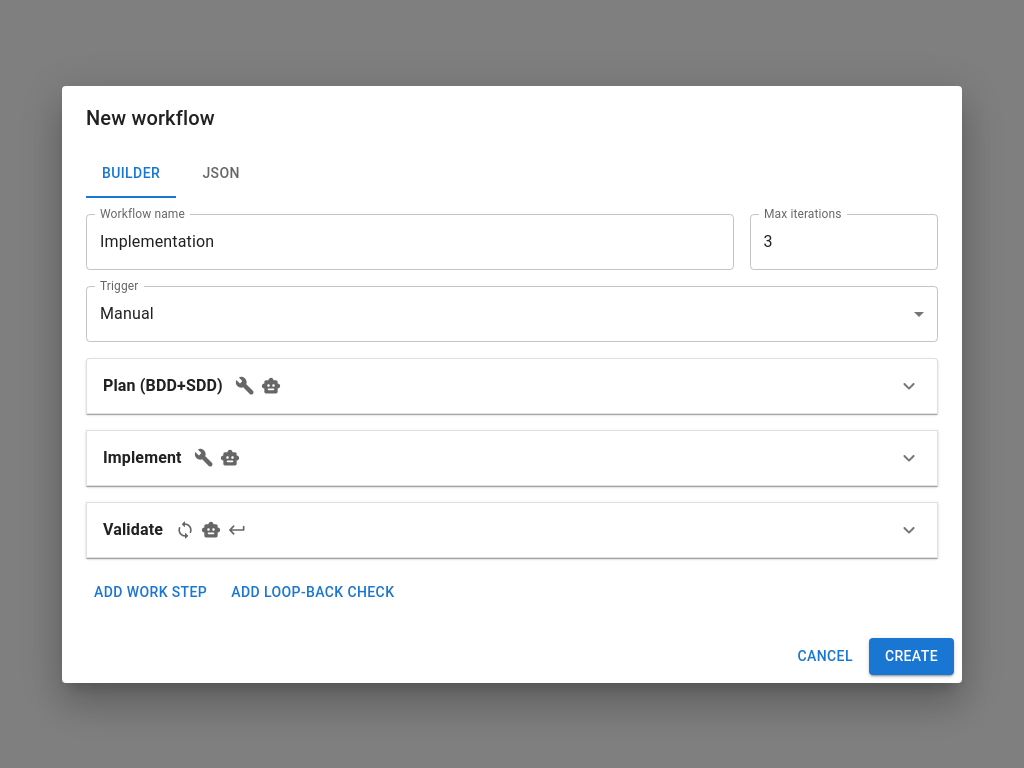
Scenario: WorkflowEditorDialog › disables Save until a new step has a prompt, then enables it
Click the button "Plan (BDD+SDD)": (163,385) [87,358,937,412]
(page scrolled)
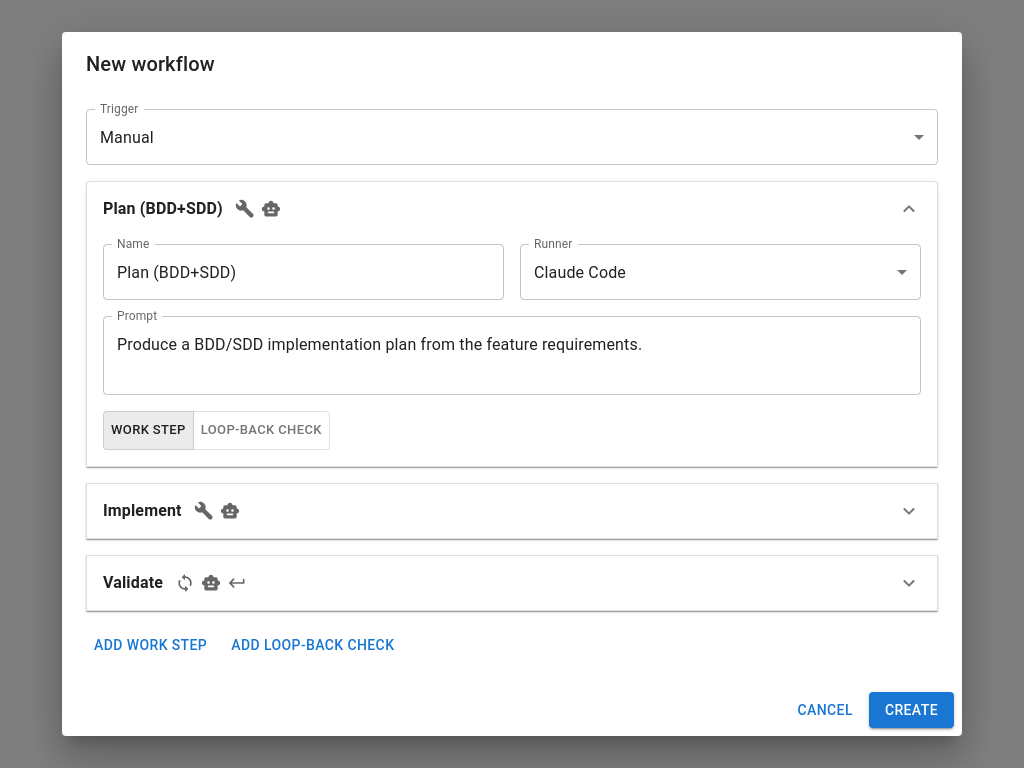
Click the button "Add work step": (151,645) [86,627,215,664]
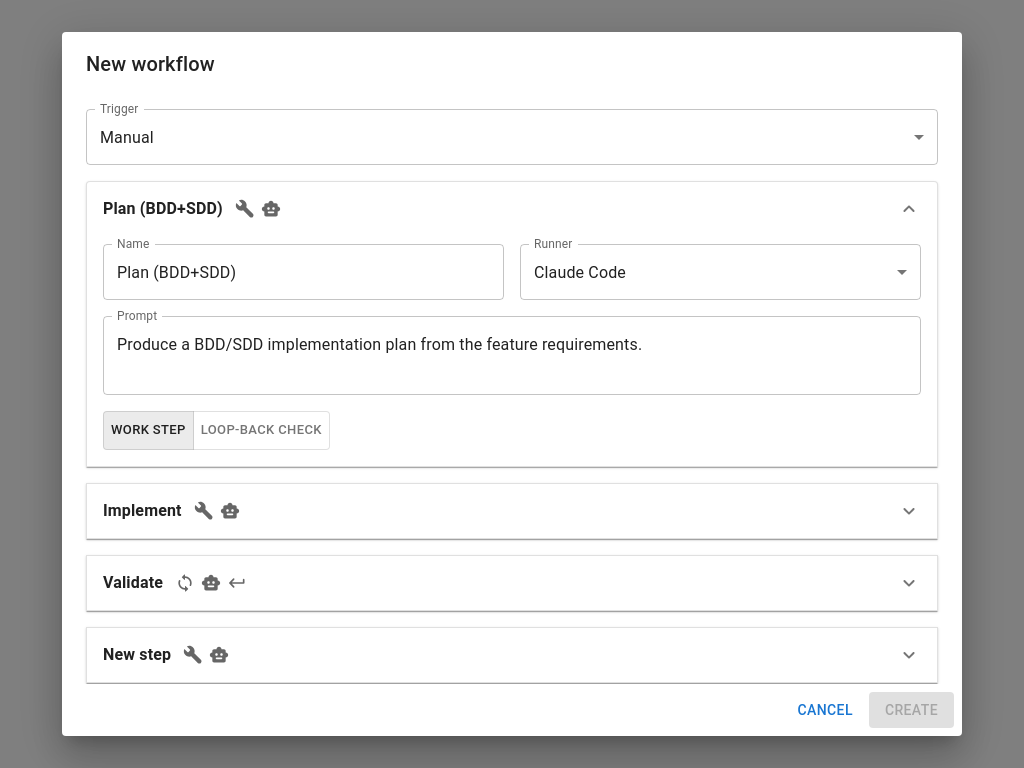
Check: the button "Create" is disabled, box [869,692,954,728]
Click the button "New step": (137,654) [87,628,937,682]
(page scrolled)
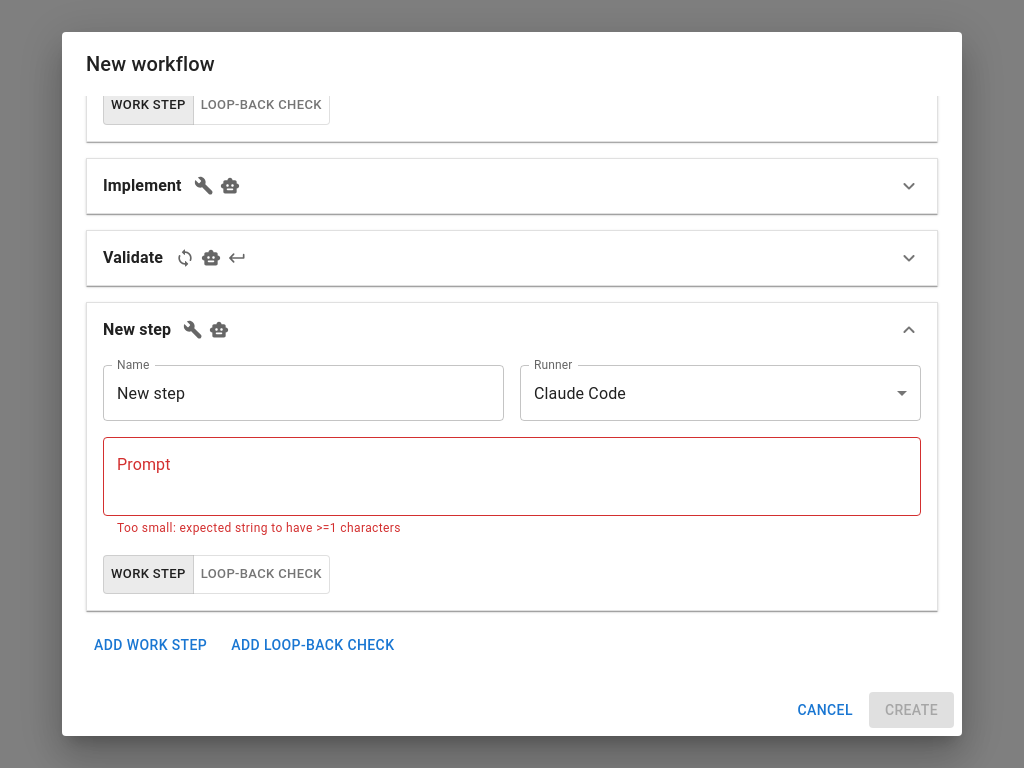
In the text box labelled "Prompt": (512,476) [117,454,907,500], type "Do the thing"
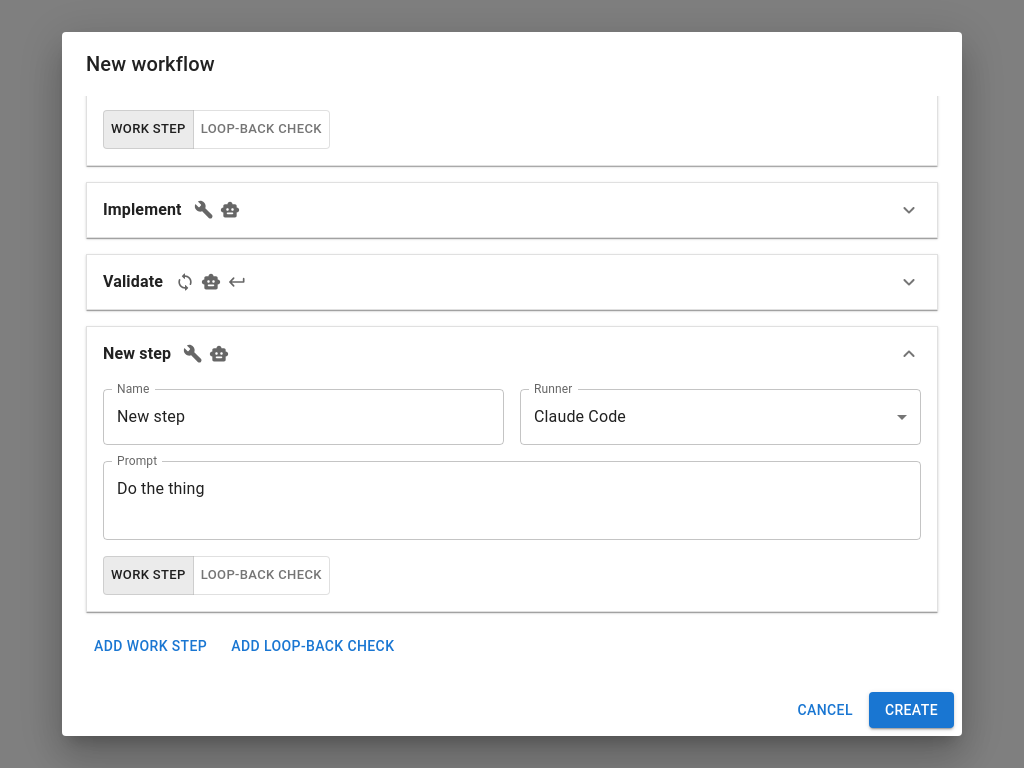
Check: the button "Create" is enabled, box [869,692,954,728]
